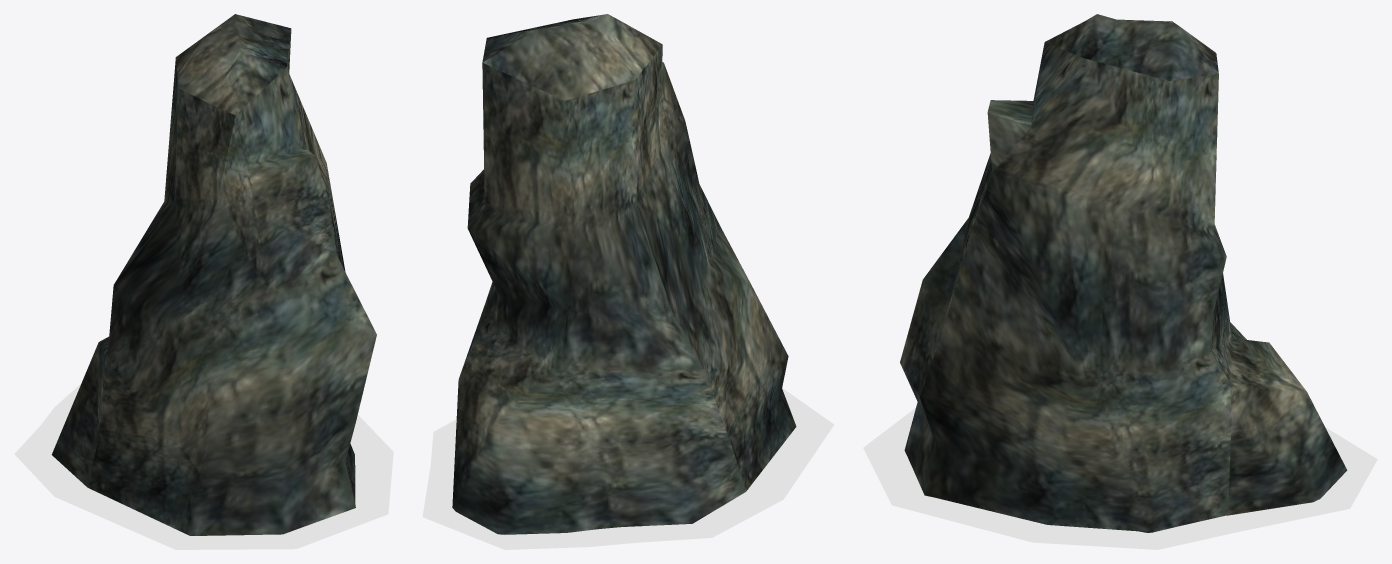
File: pir_m_prp_ocn_rock_d.fbx
The picture shows the model from 3 angles, left to right: view 1: azimuth 30°, elevation 25°; view 2: azimuth 150°, elevation 25°; view 3: azimuth 270°, elevation 25°; orthographic projection. The views are drawn at different scales.
Visible parts, largest first — view 1: rock, wave; view 2: rock, wave; view 3: rock, wave.
Boxes of the visible parts, box(x1,y1,x2,y2) form: rock: box(51, 14, 376, 535); wave: box(14, 384, 393, 549); rock: box(452, 14, 796, 534); wave: box(422, 388, 834, 549); rock: box(900, 14, 1347, 532); wave: box(863, 408, 1377, 549).
Size of the model in its own units: 3748 by 4817 by 4727.
2 materials, 2 textured.
